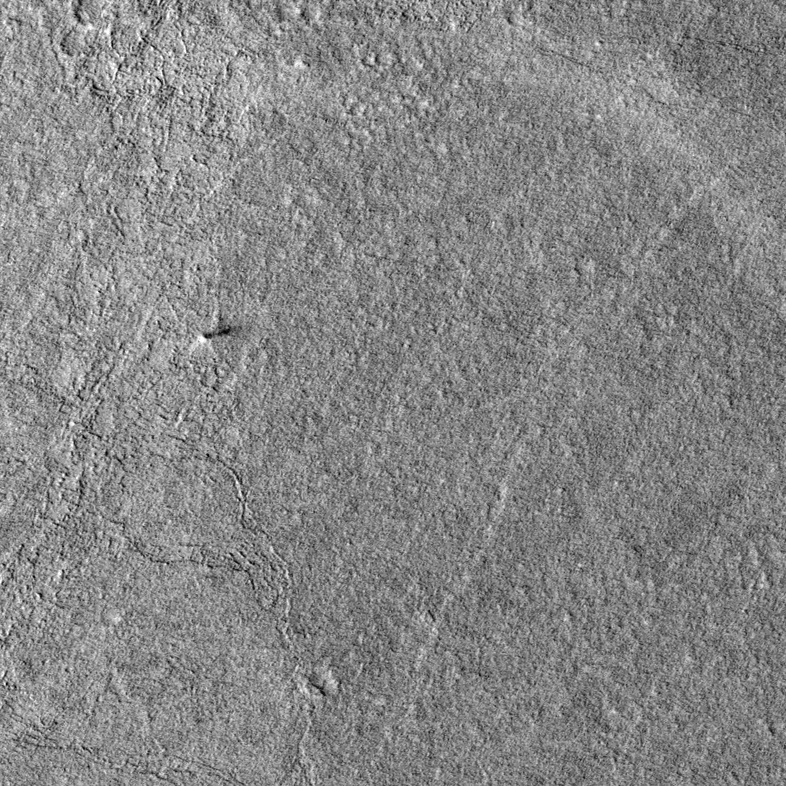dust_devil: (195, 324, 233, 347)
